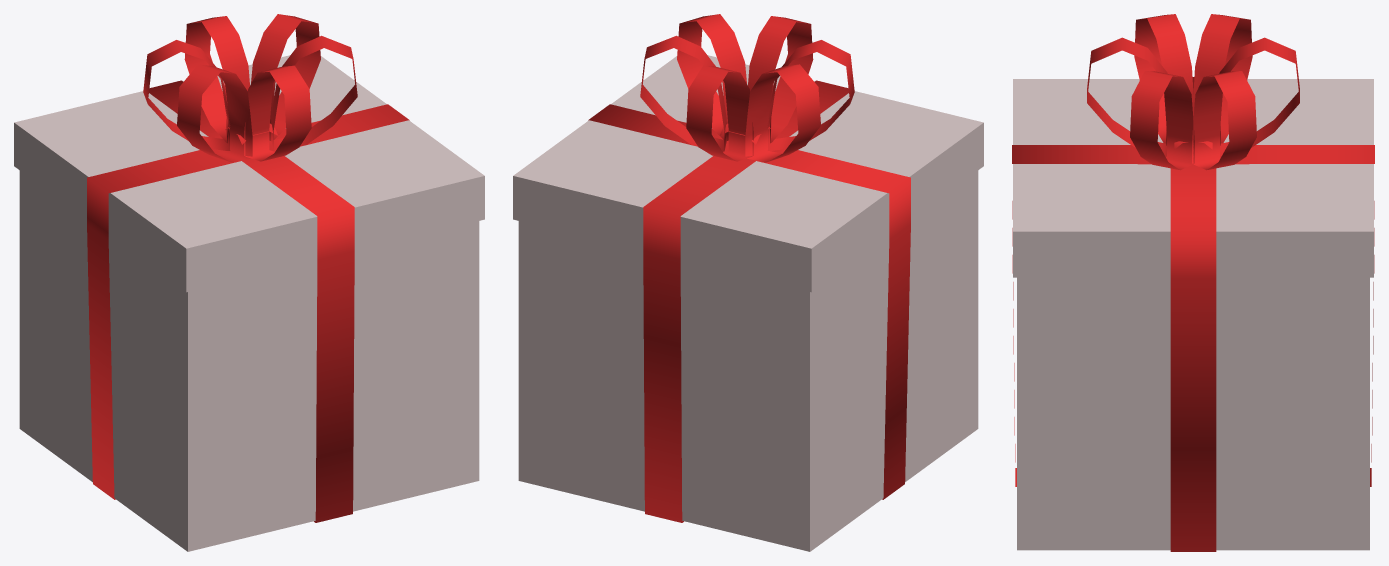
The model's file is preboxrib08111904.fbx.
The picture shows the model from 3 angles, left to right: view 1: azimuth 30°, elevation 25°; view 2: azimuth 150°, elevation 25°; view 3: azimuth 270°, elevation 25°; orthographic projection. The views are drawn at different scales.
Visible parts, largest first — view 1: Cube, 平面; view 2: Cube, 平面; view 3: Cube, 平面.
Part boxes in pixels (x1=…): Cube: x1=14, y1=55, x2=484, y2=551; 平面: x1=87, y1=14, x2=409, y2=522; Cube: x1=513, y1=55, x2=983, y2=551; 平面: x1=588, y1=14, x2=910, y2=522; Cube: x1=1013, y1=79, x2=1373, y2=550; 平面: x1=1012, y1=14, x2=1374, y2=551.
Bounding box in the file's own units: 207 × 271 × 206.
